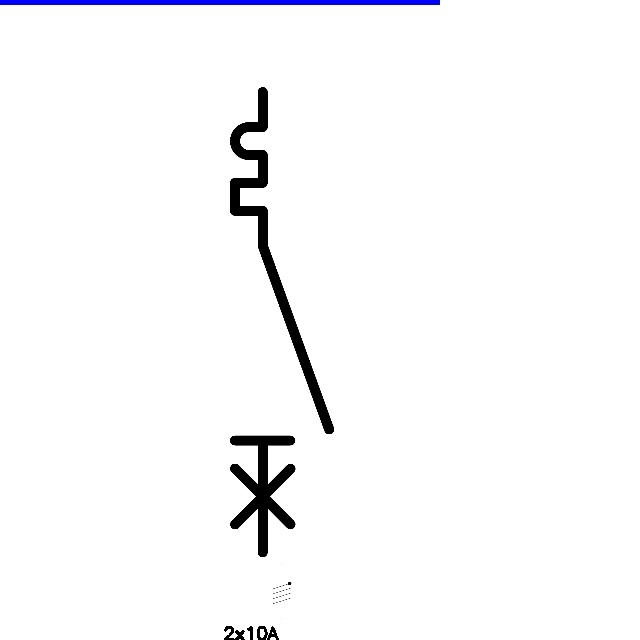interruptor_termomagnetico: (223, 80, 341, 564)
